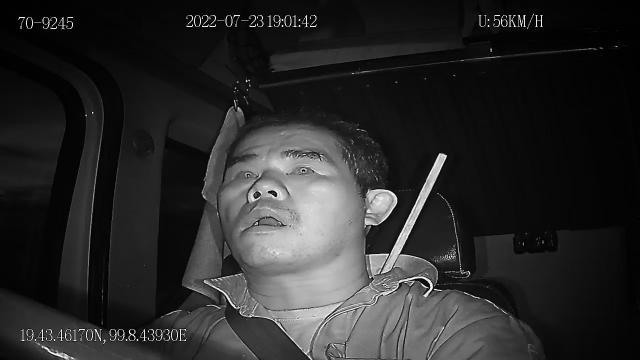SafeDriving: (278, 141, 327, 180), (280, 152, 325, 181), (226, 158, 262, 188)
Seatbelt: (223, 292, 313, 360)
